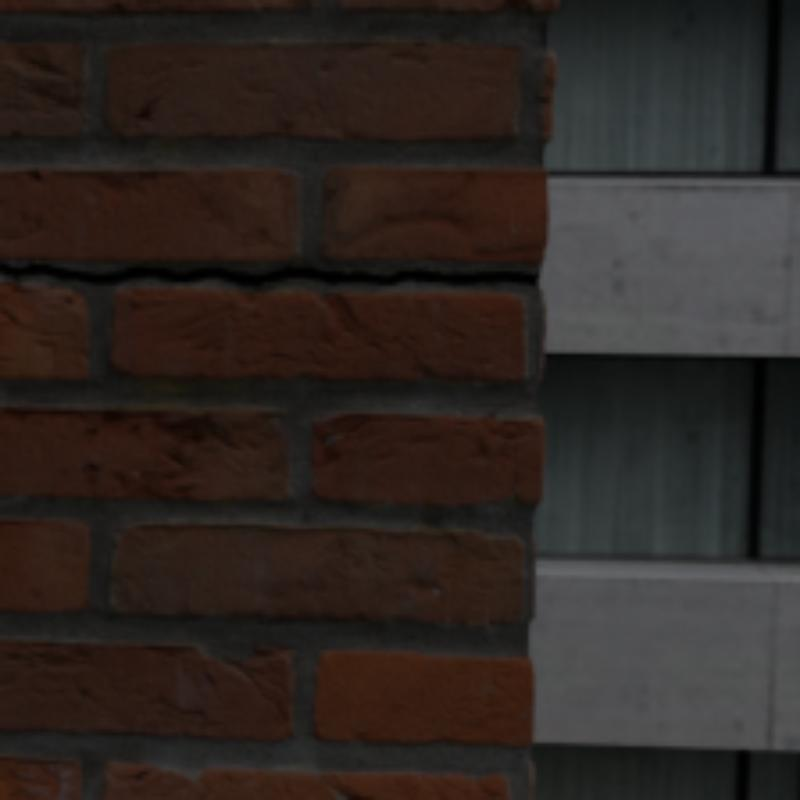pothole: (0, 264, 532, 286)
